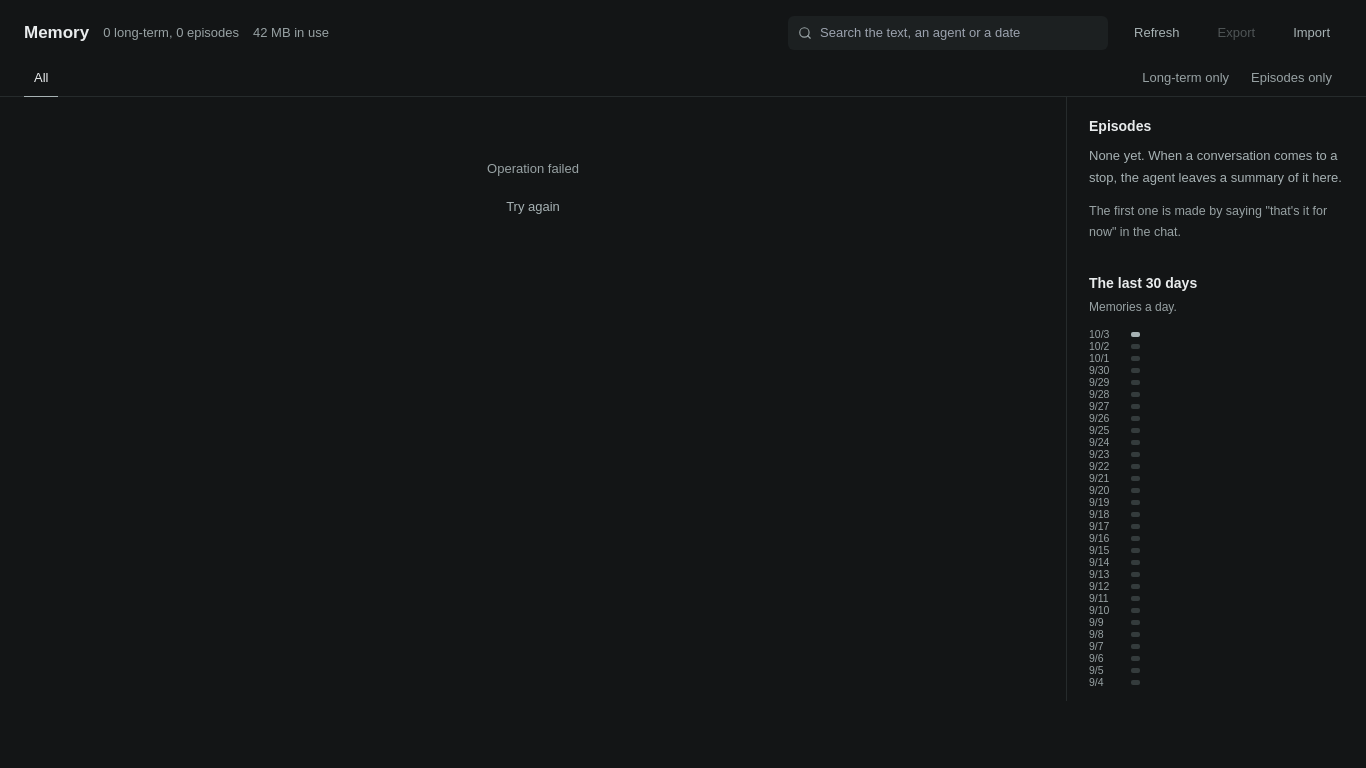
what the screen says when it has nothing to show › offers the way back when the fetch failed
The image size is (1366, 768).
Expected: the text "Operation failed" is shown, left=487, top=161, right=579, bottom=176
Click the button "Try again".
click(533, 206)  # box left=494, top=189, right=572, bottom=224
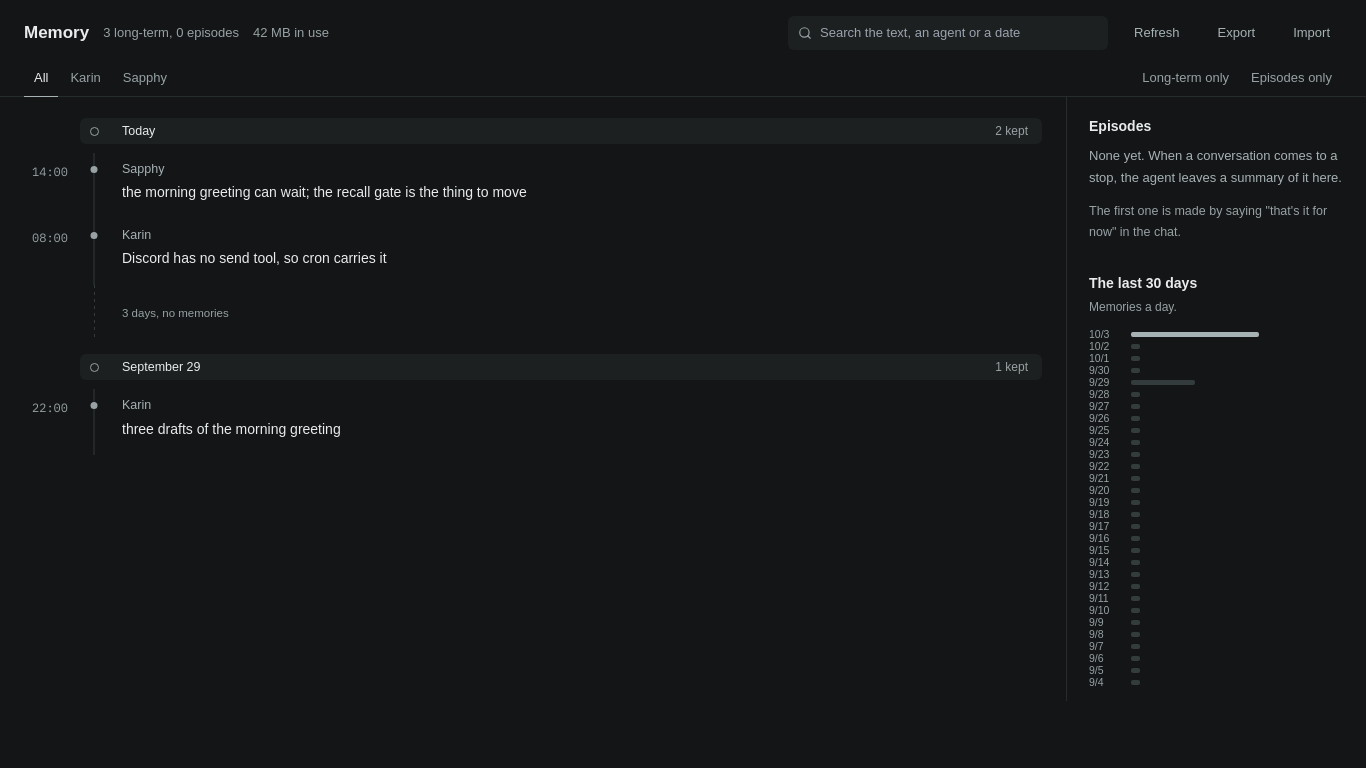
Expected: the text "Today" is shown, left=122, top=124, right=155, bottom=138
